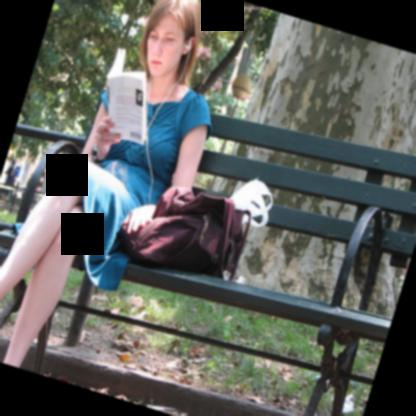handbag: (123, 189, 252, 282)
